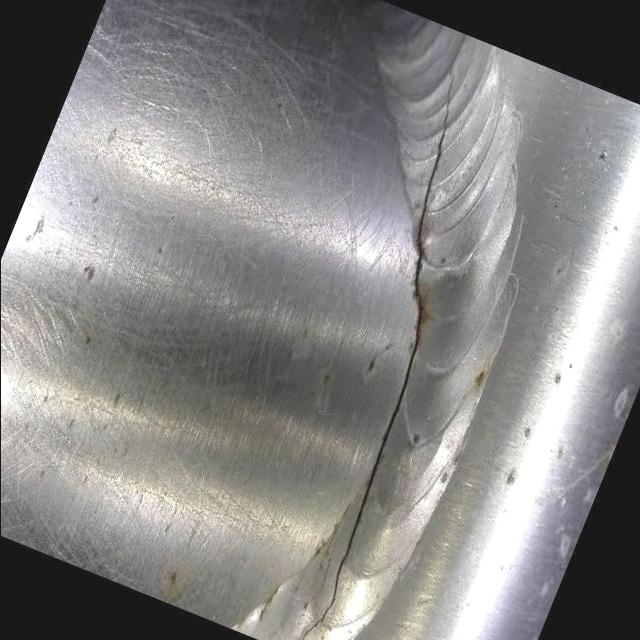defect: (292, 53, 455, 640)
